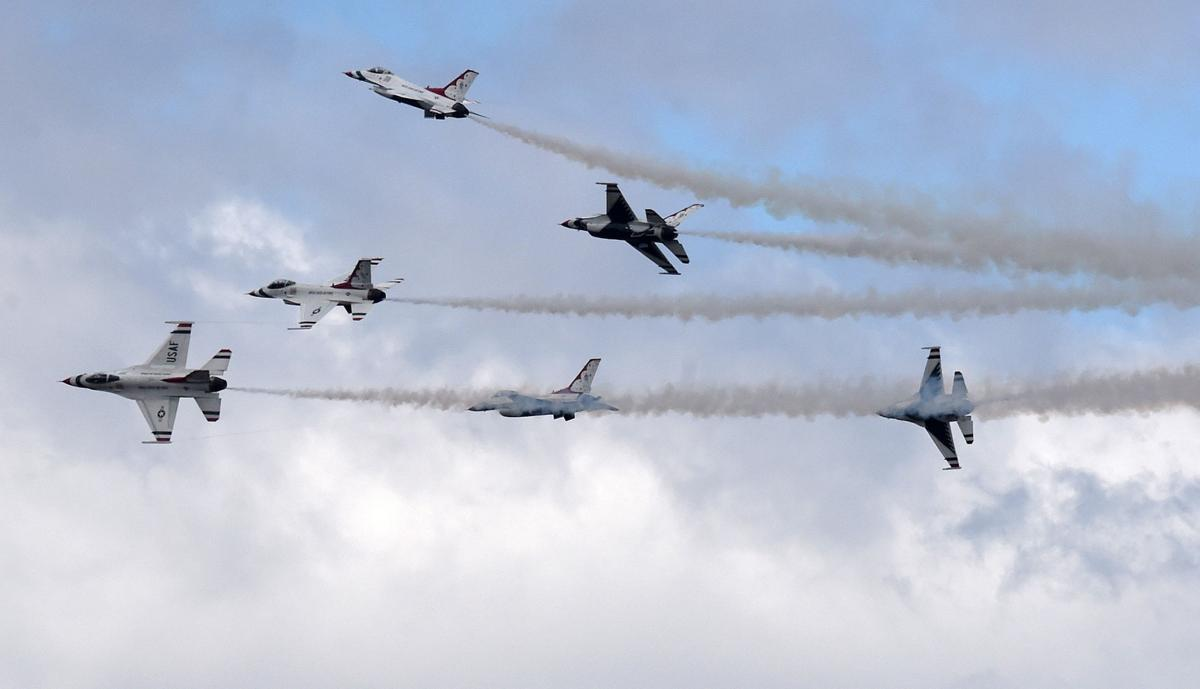plane: (59, 312, 229, 443), (551, 177, 708, 278), (872, 338, 979, 473), (244, 256, 405, 334), (463, 357, 618, 425), (335, 56, 481, 127)
